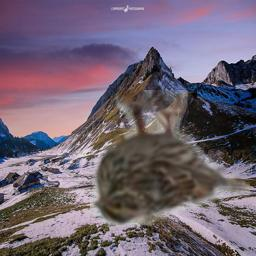Sparrow: (90, 90, 250, 227)
